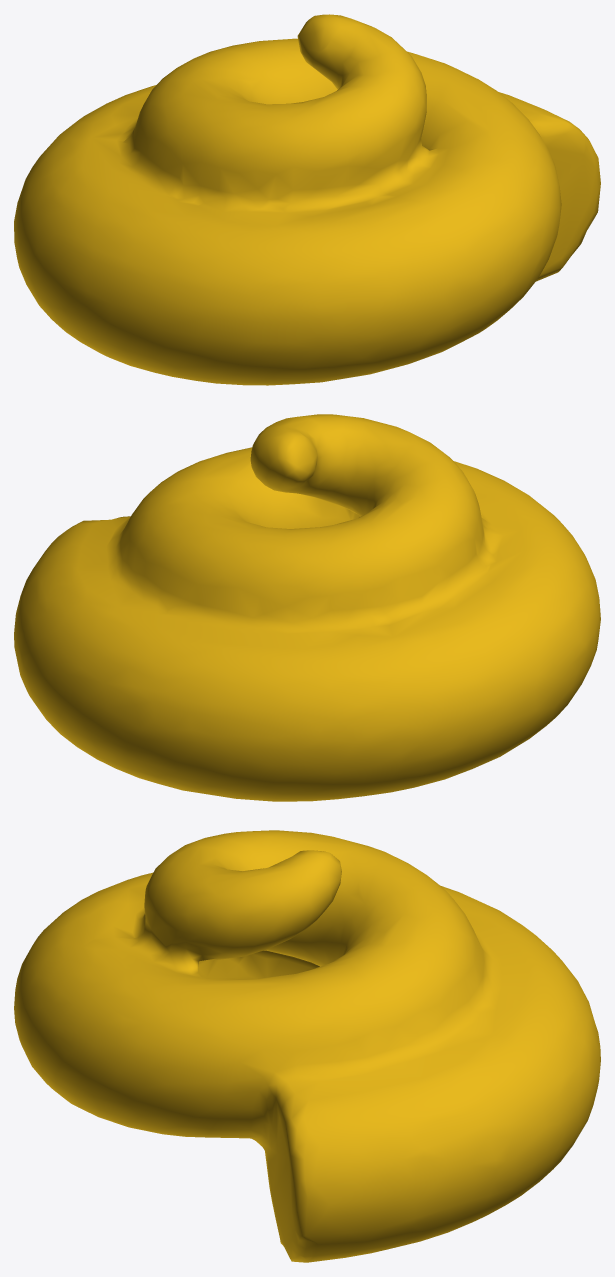
File: senf.glb
The picture shows the model from 3 angles, top to bottom: view 1: azimuth 30°, elevation 25°; view 2: azimuth 150°, elevation 25°; view 3: azimuth 270°, elevation 25°; orthographic projection. The views are drawn at different scales.
Parts seen in each view (by area): view 1: p0; view 2: p0; view 3: p0.
Part boxes in pixels (x1,y1,x2,y2): p0: (14,14,600,385); p0: (14,414,600,801); p0: (14,830,600,1262).
Bounding box in the file's own units: 0.0247 × 0.0132 × 0.0228.
